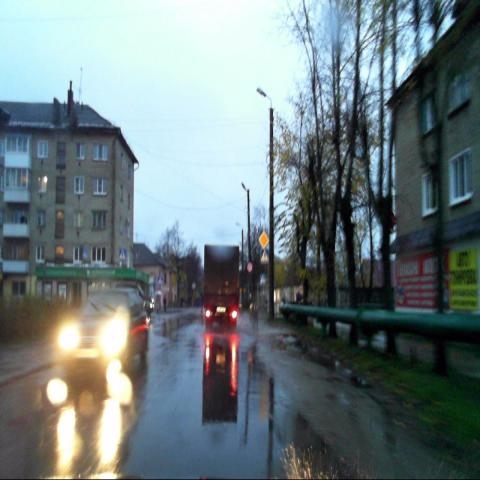2_1: (258, 229, 270, 249)
5_19_1: (260, 248, 269, 264)
